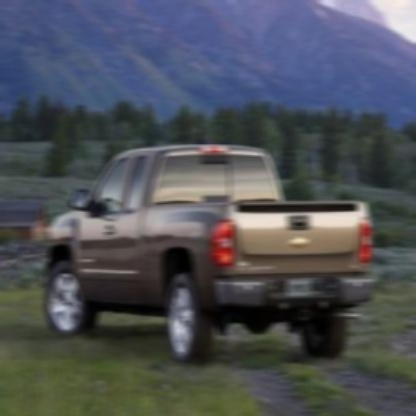Vehicle: (44, 142, 376, 369)
